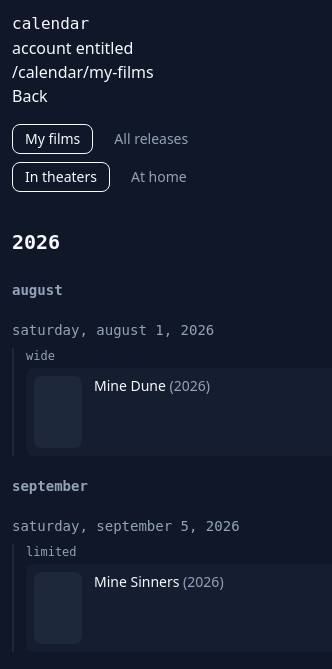
Scenario: calendar view — entitled › switches to the loader's rows without refetching the public calendar
Expected: the text "Mine Dune" is shown, [94,376,166,395]
What coordinates should you click on to do the following:
click the tab "All releases"
I would click on:
 (151, 138)
Its box is [114,129,188,148].
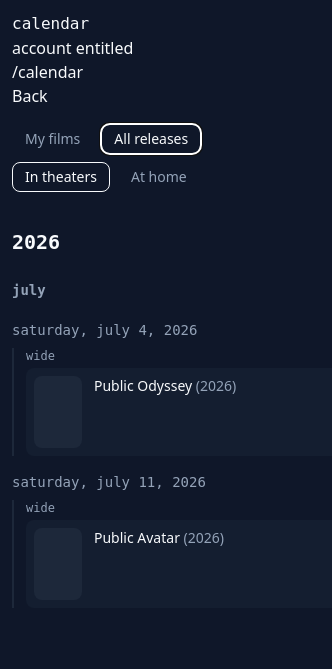
Result: the text "Public Odyssey" is shown at [94,376,192,395]
Result: the link "Mine Dune" is gone
